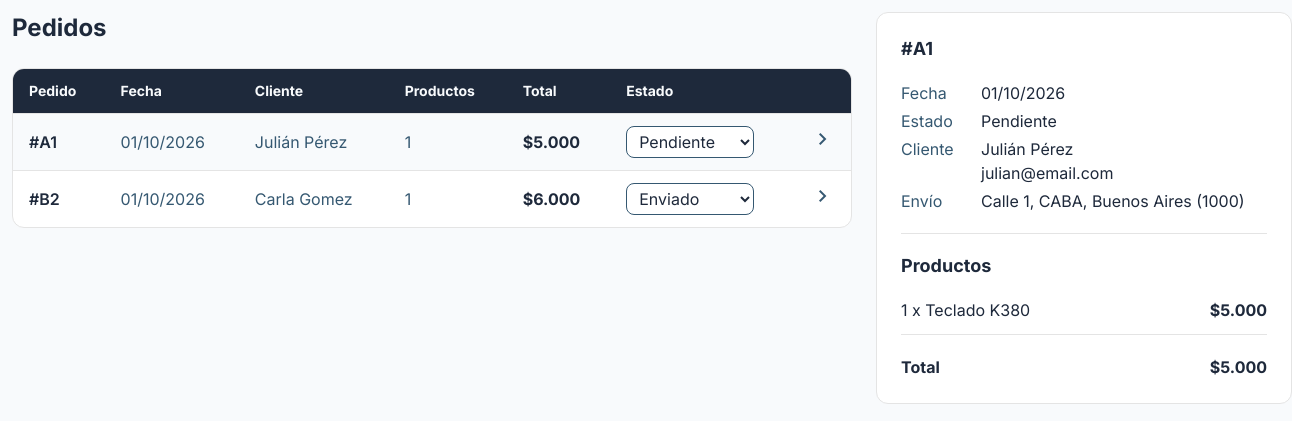
Test: AdminOrdersPage › explica que la sesión expiró si el cambio de estado responde 401
The width and height of the screenshot is (1292, 421).
Select "Pagado" in the dropdown named "Estado del pedido #A1". click: (690, 142)
box: [626,126,754,158]
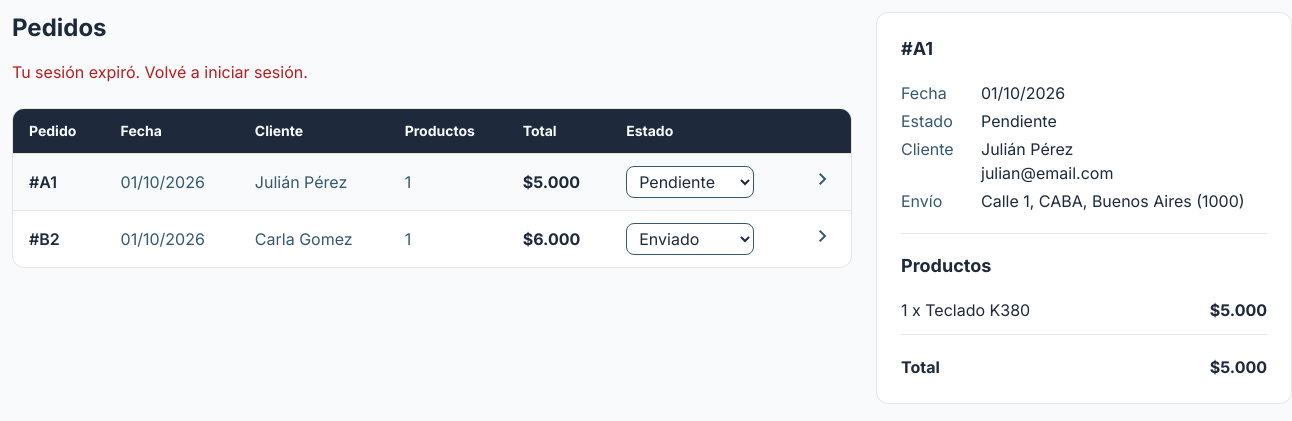
Check: the message reads "Tu sesión expiró. Volvé a iniciar sesión.", box [12,62,308,82]
